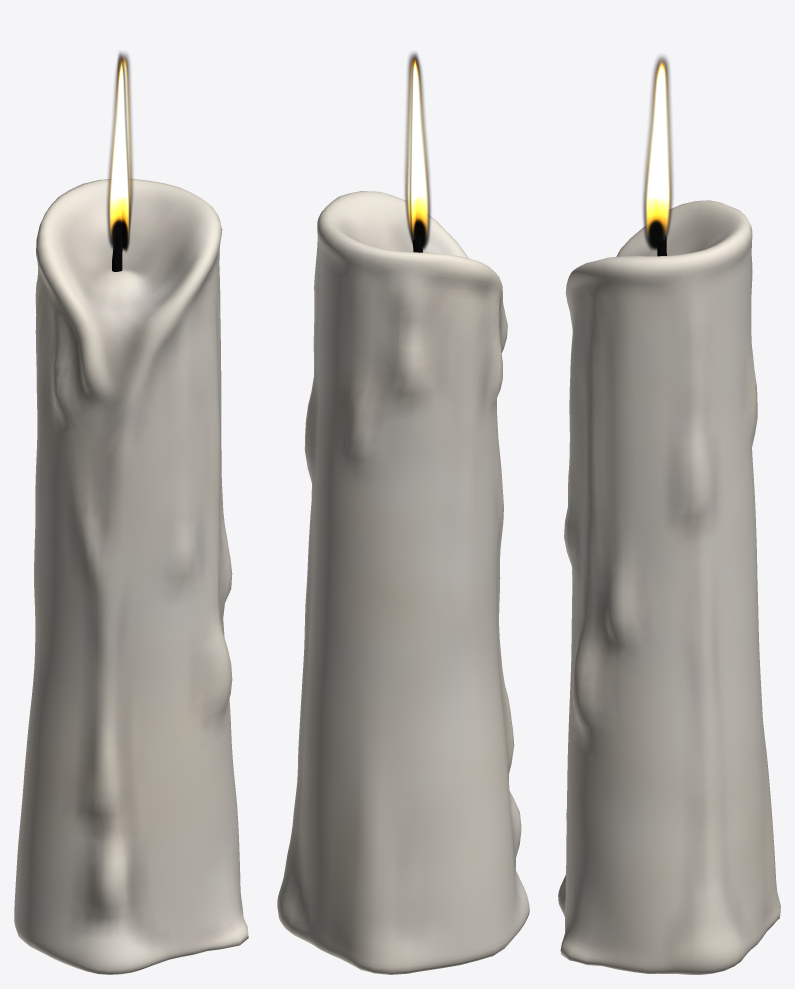
Rendered from candles_off.glb.
3 renders of one model, left to right at view 1: azimuth 30°, elevation 25°; view 2: azimuth 150°, elevation 25°; view 3: azimuth 270°, elevation 25°, orthographic.
Parts seen in each view (by area): view 1: CandleSet01_Stick03_geo, CandleSet01_Stick03_Flame_geo; view 2: CandleSet01_Stick03_geo, CandleSet01_Stick03_Flame_geo; view 3: CandleSet01_Stick03_geo, CandleSet01_Stick03_Flame_geo.
Boxes of the visible parts, left/top/right/bottom form: CandleSet01_Stick03_geo: left=14, top=178, right=248, bottom=974; CandleSet01_Stick03_Flame_geo: left=107, top=52, right=132, bottom=252; CandleSet01_Stick03_geo: left=277, top=191, right=529, bottom=974; CandleSet01_Stick03_Flame_geo: left=405, top=52, right=430, bottom=250; CandleSet01_Stick03_geo: left=558, top=200, right=780, bottom=974; CandleSet01_Stick03_Flame_geo: left=643, top=56, right=672, bottom=250.
Size of the model in its own units: 0.0558 by 0.2317 by 0.0524.
3 materials, 2 textured.
